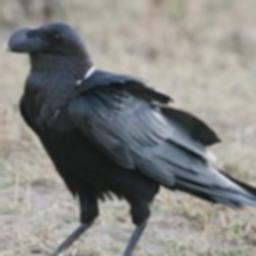Crow: (0, 20, 256, 256)
